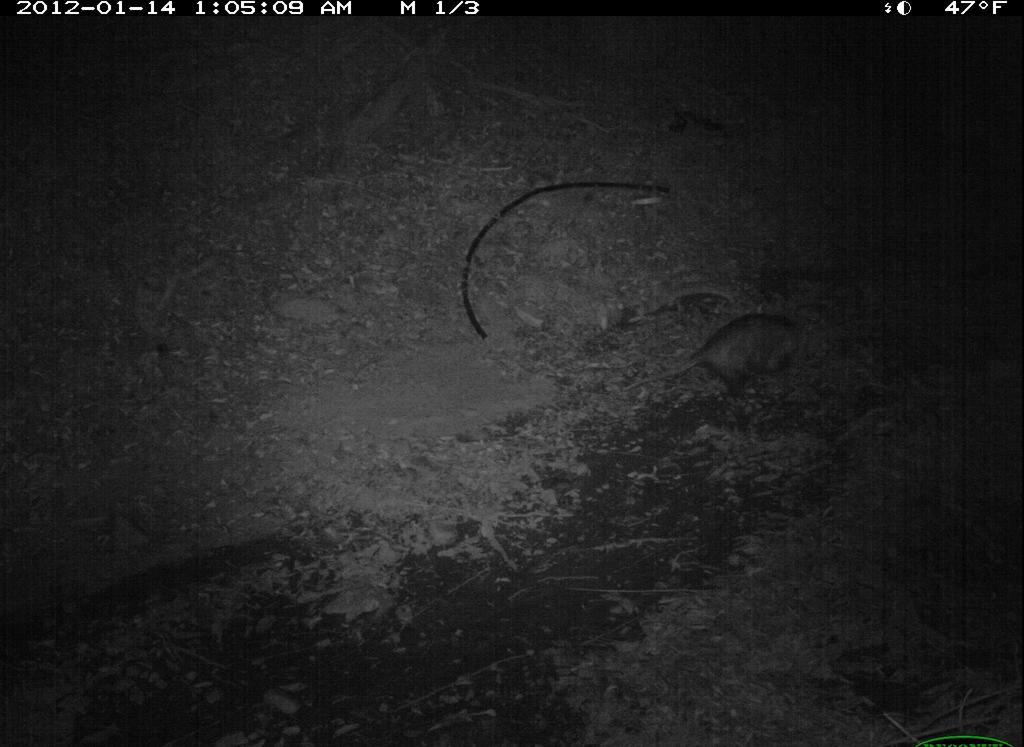opossum: (610, 305, 820, 411)
